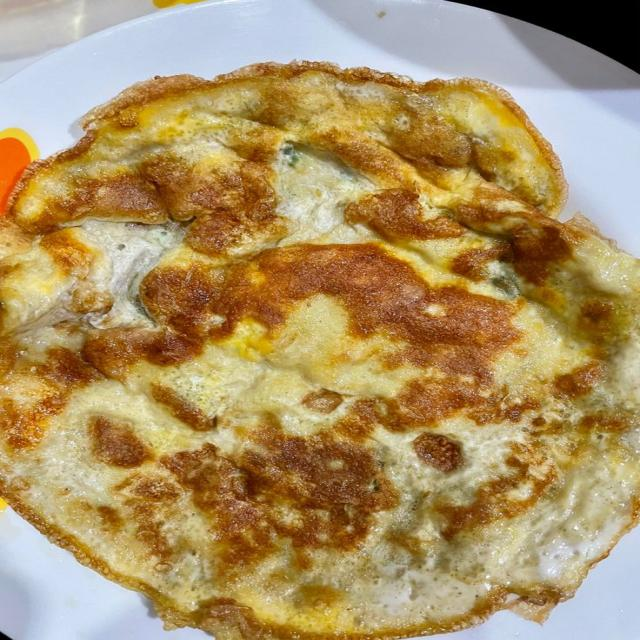omelette: (0, 63, 639, 639)
